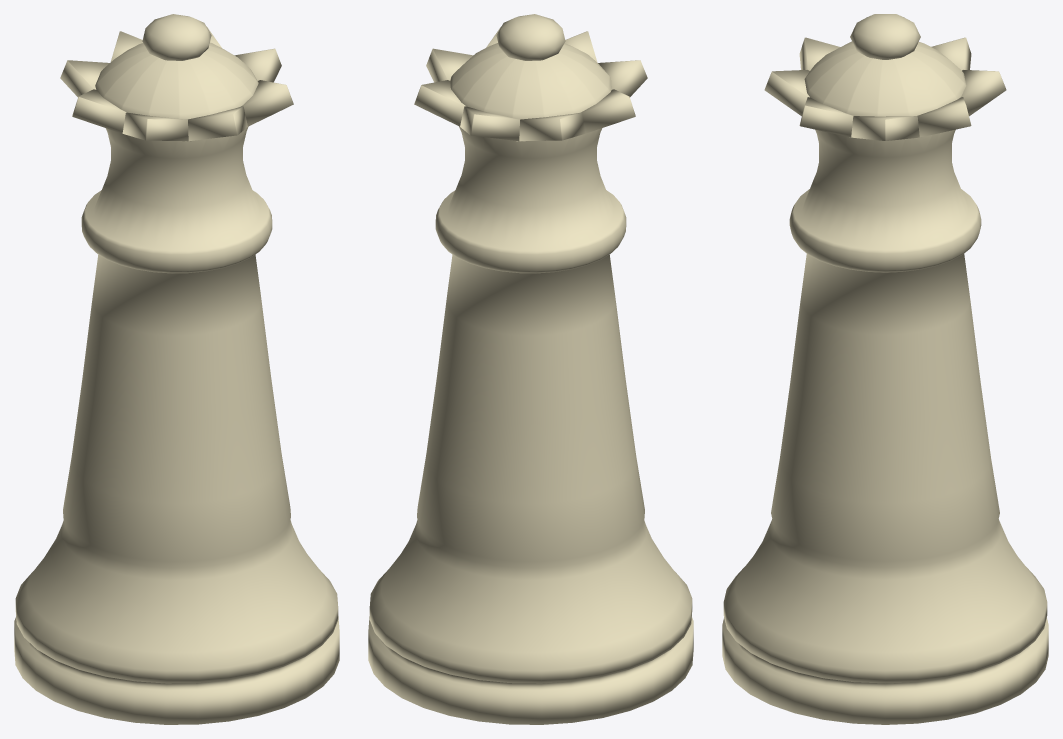
File: queen.gltf
The picture shows the model from 3 angles, left to right: view 1: azimuth 30°, elevation 25°; view 2: azimuth 150°, elevation 25°; view 3: azimuth 270°, elevation 25°; orthographic projection.
Parts seen in each view (by area): view 1: queen; view 2: queen; view 3: queen.
Boxes of the visible parts, bbox=[...] form: queen: bbox=[14, 14, 339, 724]; queen: bbox=[368, 14, 693, 724]; queen: bbox=[722, 14, 1048, 724].
Size of the model in its own units: 1.3 by 2.81 by 1.3.
